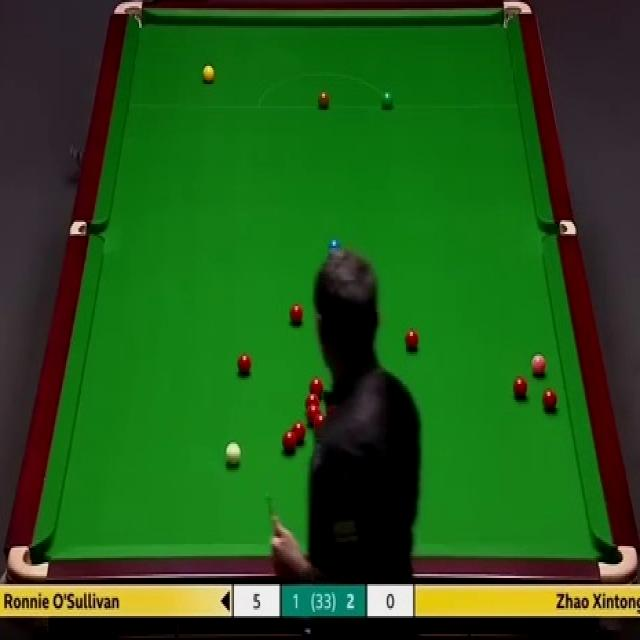blue-ball: (328, 238, 342, 259)
brown-ball: (316, 90, 329, 110)
green-ball: (380, 91, 396, 110)
pink-ball: (530, 354, 548, 377)
red-ball: (541, 388, 558, 411), (513, 374, 528, 400), (282, 430, 298, 453), (289, 302, 304, 326), (237, 353, 252, 376), (404, 328, 419, 350), (309, 376, 323, 398), (293, 422, 307, 443), (304, 393, 320, 411), (307, 405, 320, 425)
white-ball: (224, 440, 242, 464)
yellow-ball: (202, 65, 214, 86)
